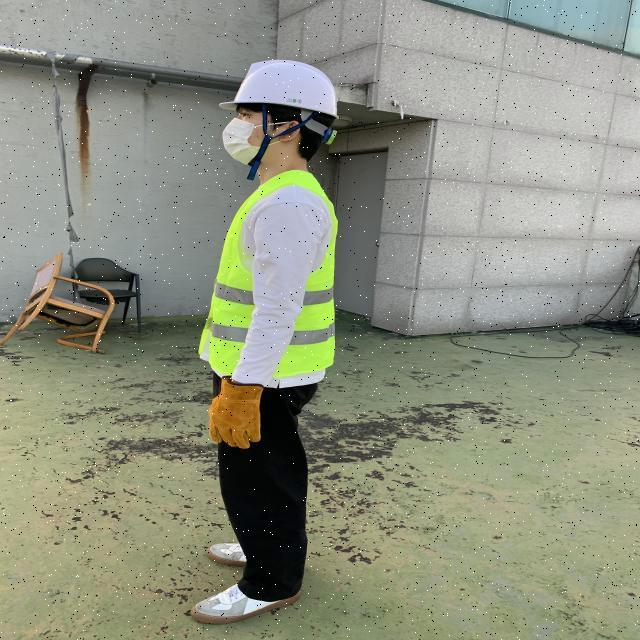Hard_hat: (215, 55, 344, 125)
Vest: (207, 169, 338, 385)
